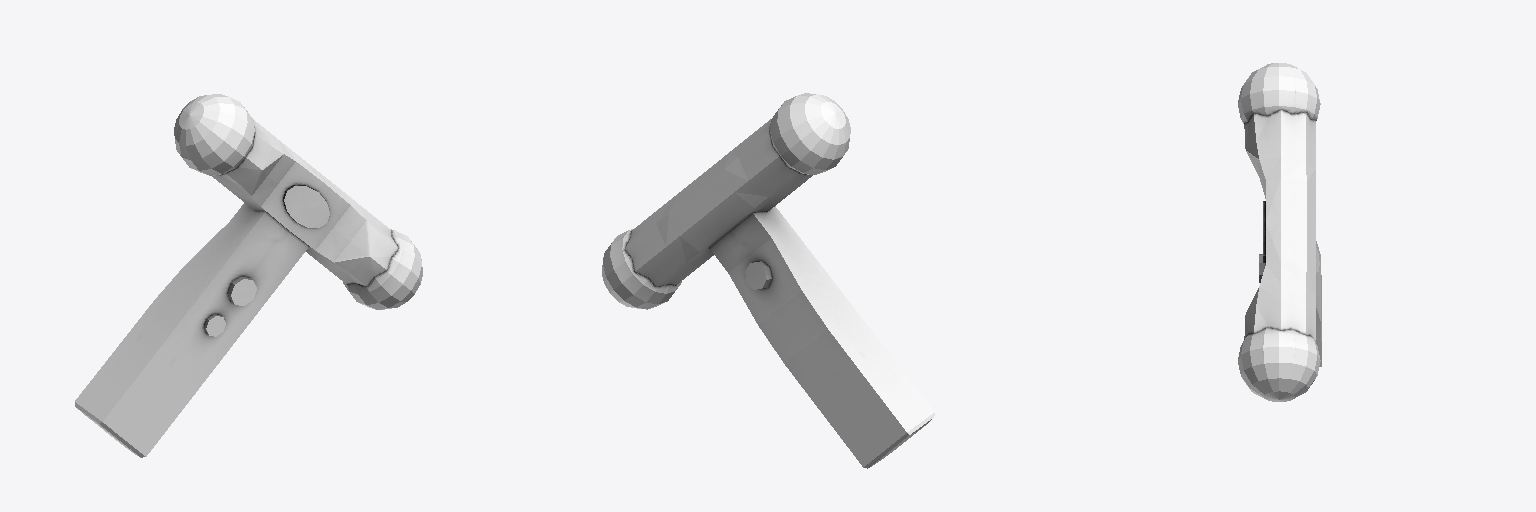
The picture shows the model from 3 angles: view 1: azimuth 30°, elevation 25°; view 2: azimuth 150°, elevation 25°; view 3: azimuth 270°, elevation 25°; orthographic projection.
Parts seen in each view (by area): view 1: polySurface2; view 2: polySurface2; view 3: polySurface2.
Part boxes in pixels (x1,y1,x2,y2): polySurface2: (75, 94, 422, 457); polySurface2: (602, 93, 934, 468); polySurface2: (1238, 63, 1321, 401).
Bounding box in the file's own units: 0.5896 × 0.5896 × 0.1339.
1 materials, 1 textured.